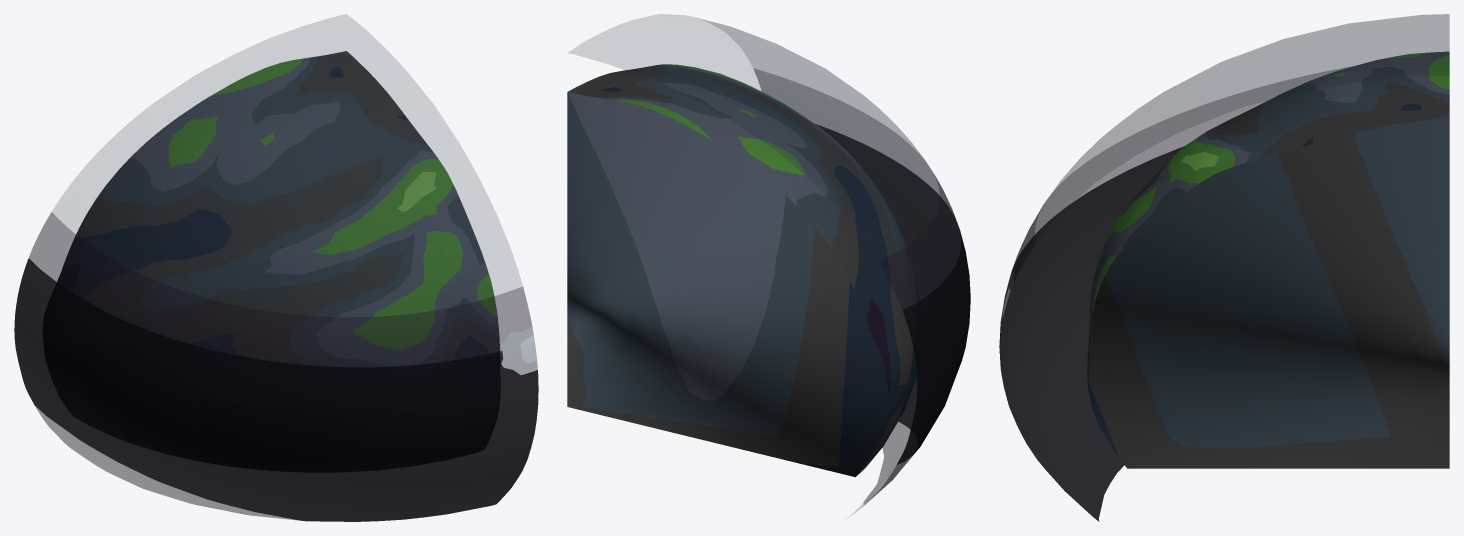
File: glass_globe_bl_279.glb
3 views of the same model, side by side, from view 1: azimuth 30°, elevation 25°; view 2: azimuth 150°, elevation 25°; view 3: azimuth 270°, elevation 25° (orthographic). The views are drawn at different scales.
Visible parts, largest first — view 1: glass_globe_bl; view 2: glass_globe_bl; view 3: glass_globe_bl.
Part boxes in pixels (box(x1,y1,x2,y2)): glass_globe_bl: box(14, 14, 538, 521); glass_globe_bl: box(567, 14, 970, 514); glass_globe_bl: box(999, 14, 1449, 521).
Size of the model in its own units: 22.88 by 25.09 by 22.9.
